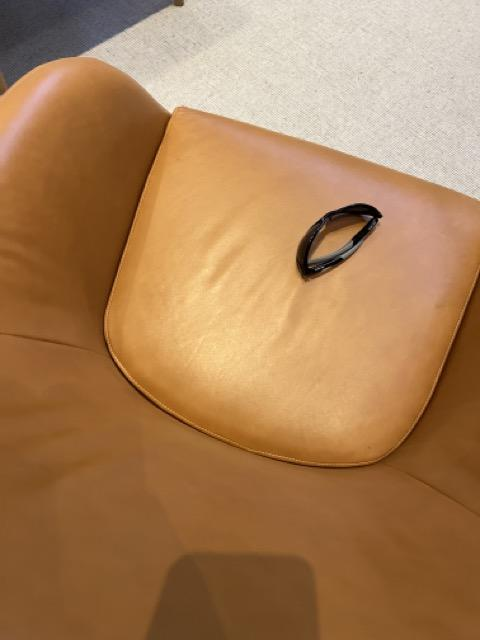Sunglasses: (296, 202, 383, 282)
